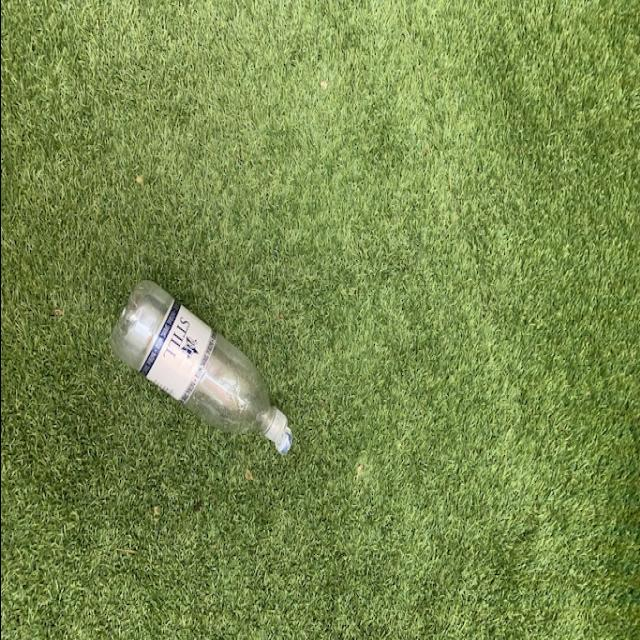PET: (108, 279, 294, 455)
